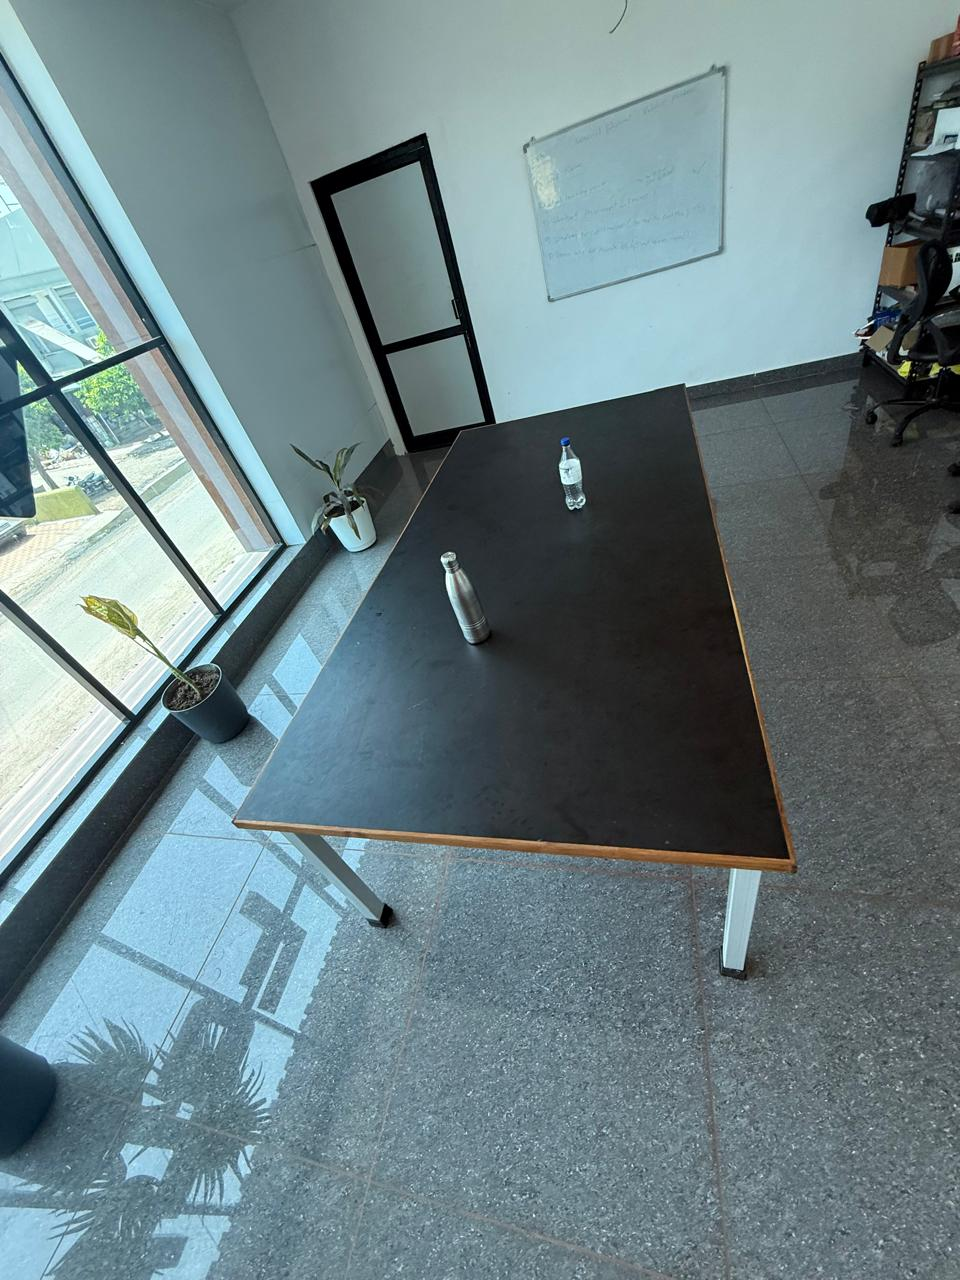bottle_on_table: (429, 530, 495, 646), (536, 427, 598, 518)
